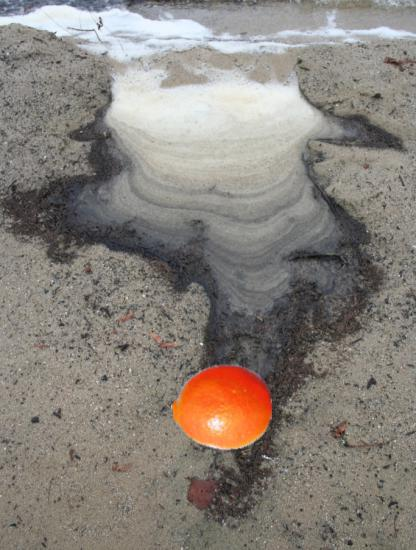Tangelo: (171, 356, 273, 458)
